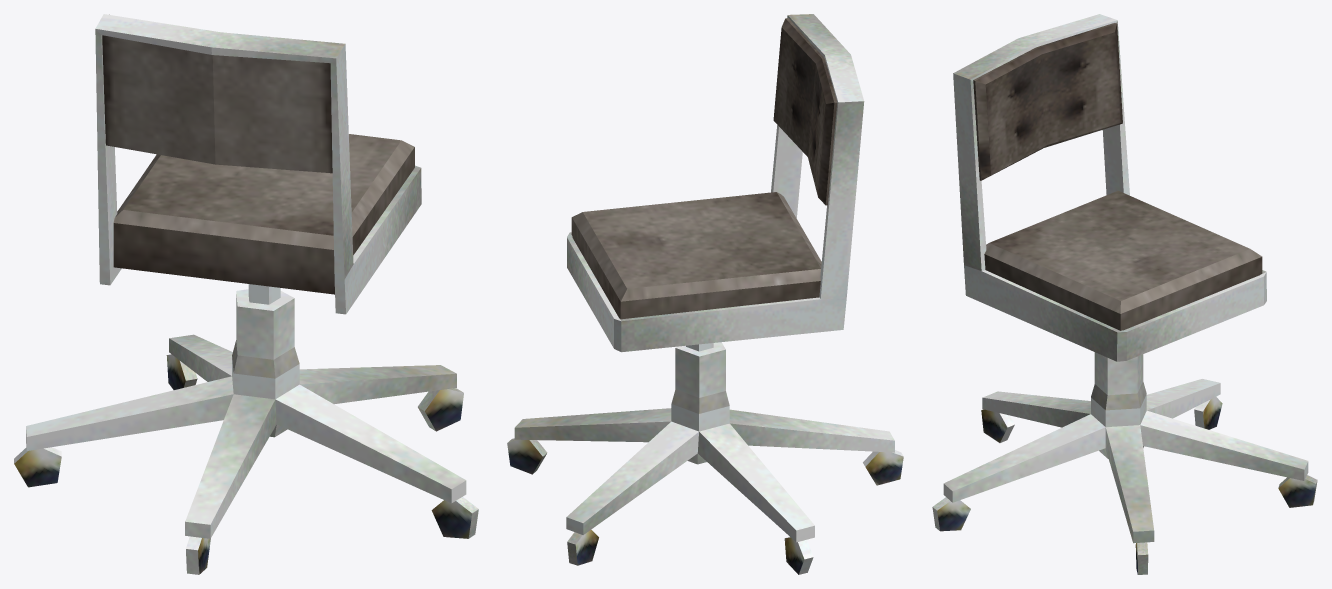
Rendered from office_chair_grey.fbx.
3 views of the same model, side by side, from view 1: azimuth 30°, elevation 25°; view 2: azimuth 150°, elevation 25°; view 3: azimuth 270°, elevation 25° (orthographic). The views are drawn at different scales.
Parts seen in each view (by area): view 1: office_chair_grey; view 2: office_chair_grey; view 3: office_chair_grey.
Boxes of the visible parts, x1=… form: office_chair_grey: x1=14, y1=14, x2=478, y2=574; office_chair_grey: x1=507, y1=14, x2=903, y2=574; office_chair_grey: x1=932, y1=14, x2=1317, y2=574.
Bounding box in the file's own units: 90.22 × 110 × 92.25.
